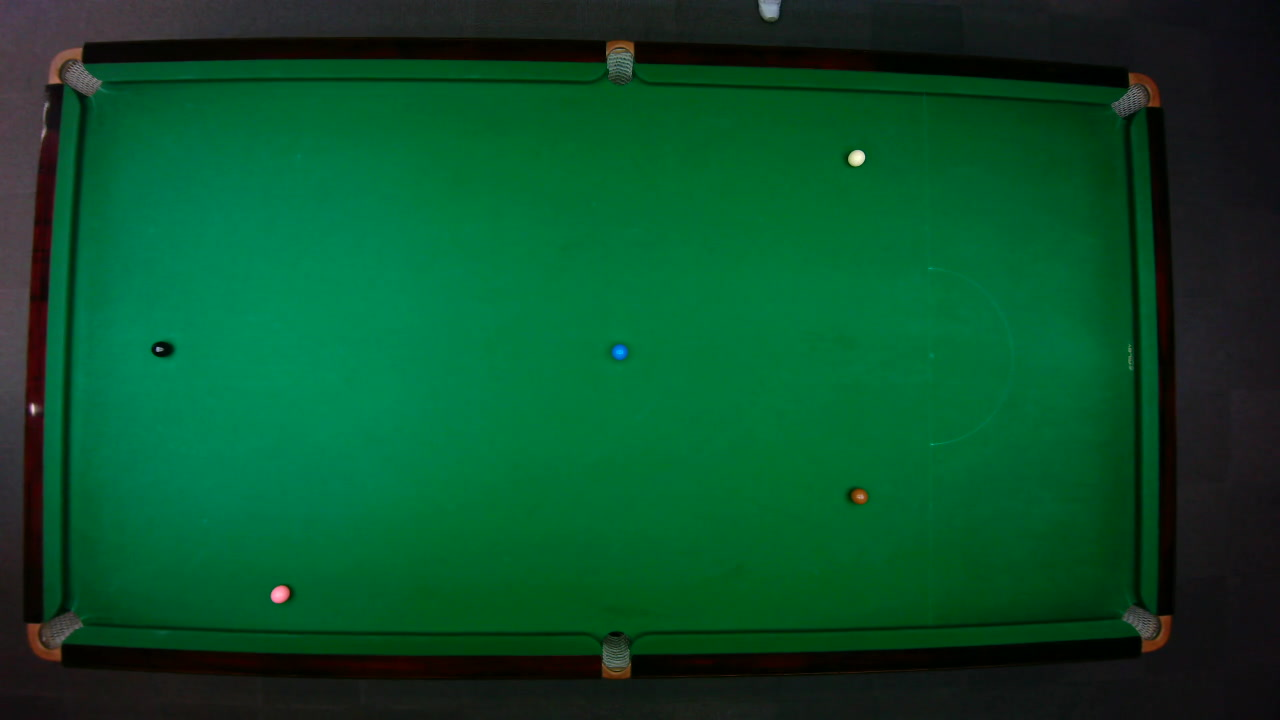bag: (25, 609, 84, 661), (45, 46, 102, 97), (1119, 603, 1171, 652), (1108, 71, 1161, 118), (601, 629, 630, 680), (605, 38, 633, 85)
black: (149, 339, 171, 357)
blue: (610, 342, 628, 360)
brown: (848, 487, 868, 504)
pink: (269, 583, 290, 604)
white: (845, 147, 866, 166)
zone: (927, 266, 1013, 445)
